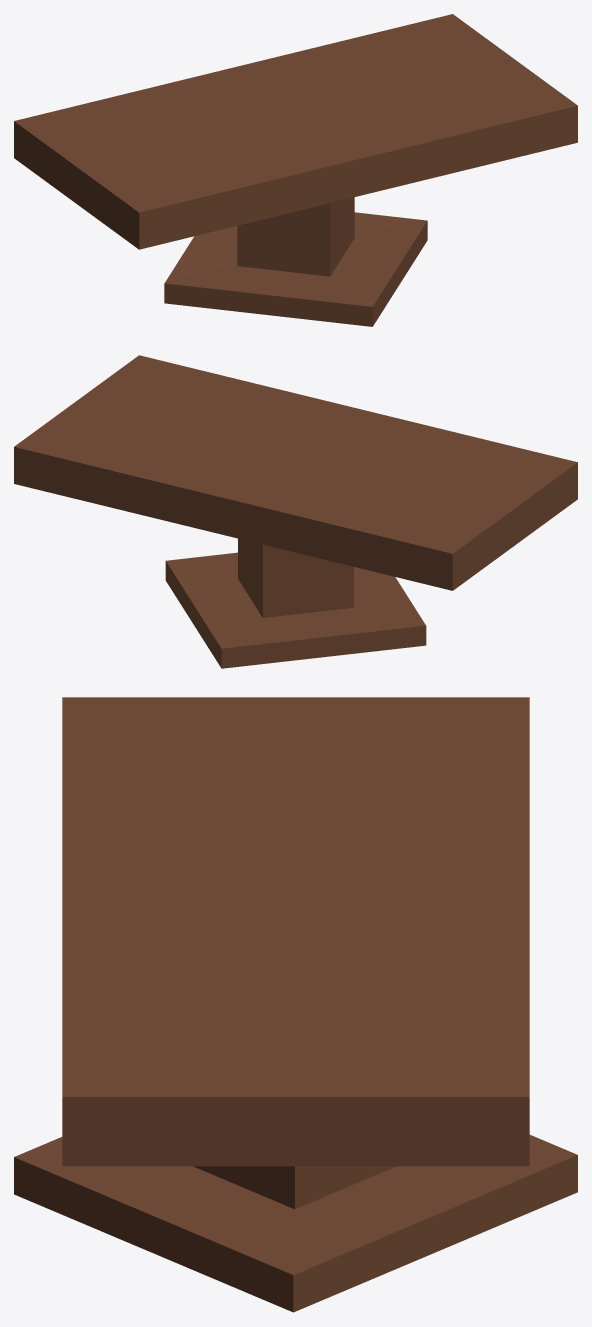
File: Table.fbx
3 views of the same model, one above another, from view 1: azimuth 30°, elevation 25°; view 2: azimuth 150°, elevation 25°; view 3: azimuth 270°, elevation 25° (orthographic). The views are drawn at different scales.
Parts seen in each view (by area): view 1: Cube; view 2: Cube; view 3: Cube.
Boxes of the visible parts, box(x1,y1,x2,y2) form: Cube: box(14, 14, 577, 326); Cube: box(14, 355, 577, 668); Cube: box(14, 697, 577, 1312).
Size of the model in its own units: 397 by 137 by 237.
